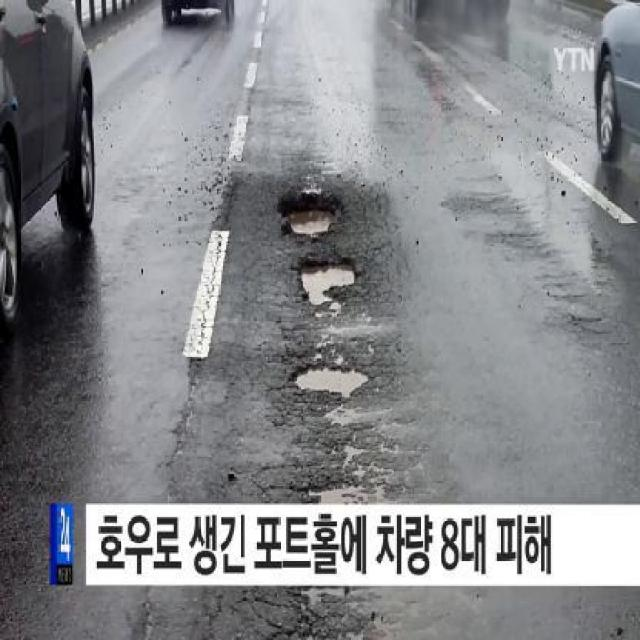Pothole: (296, 252, 362, 318), (275, 190, 350, 244), (289, 360, 380, 400)
